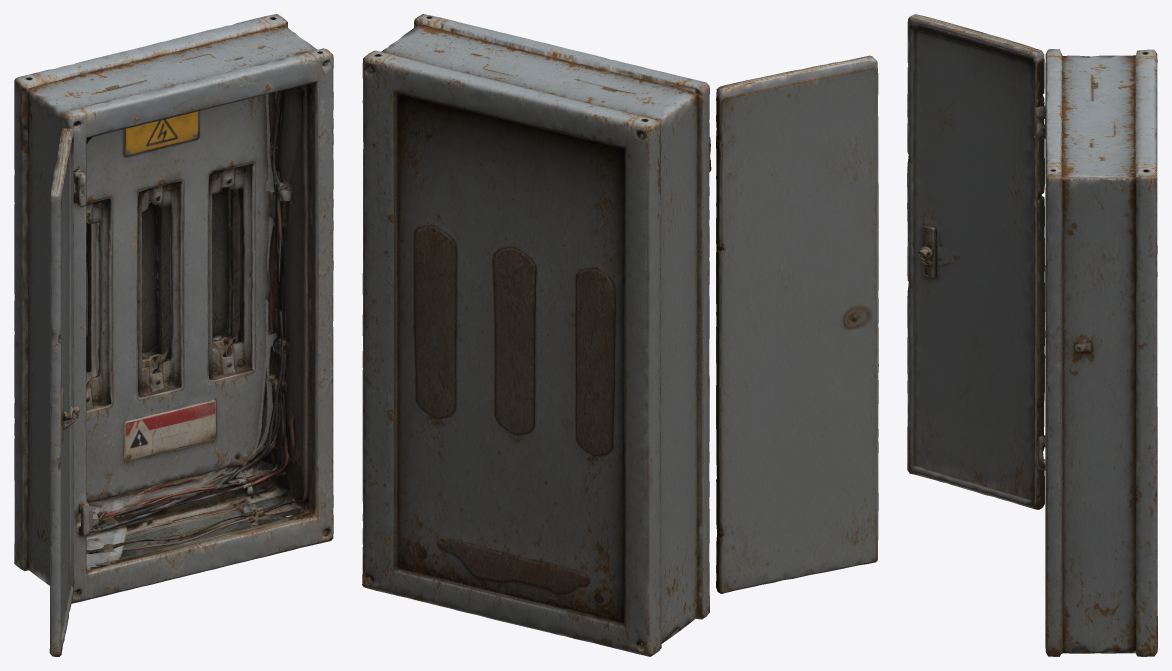
The model's file is BreakerPanel.fbx.
The picture shows the model from 3 angles, left to right: view 1: azimuth 30°, elevation 25°; view 2: azimuth 150°, elevation 25°; view 3: azimuth 270°, elevation 25°; orthographic projection. The views are drawn at different scales.
Parts seen in each view (by area): view 1: texture_mapping; view 2: texture_mapping; view 3: texture_mapping.
Boxes of the visible parts, x1,y1,x2,y2 form: texture_mapping: (14, 14, 333, 656); texture_mapping: (362, 14, 878, 656); texture_mapping: (907, 14, 1157, 656).
Bounding box in the file's own units: 0.7518 × 0.4693 × 0.9963.
Materials: 1 (1 with a texture image).
